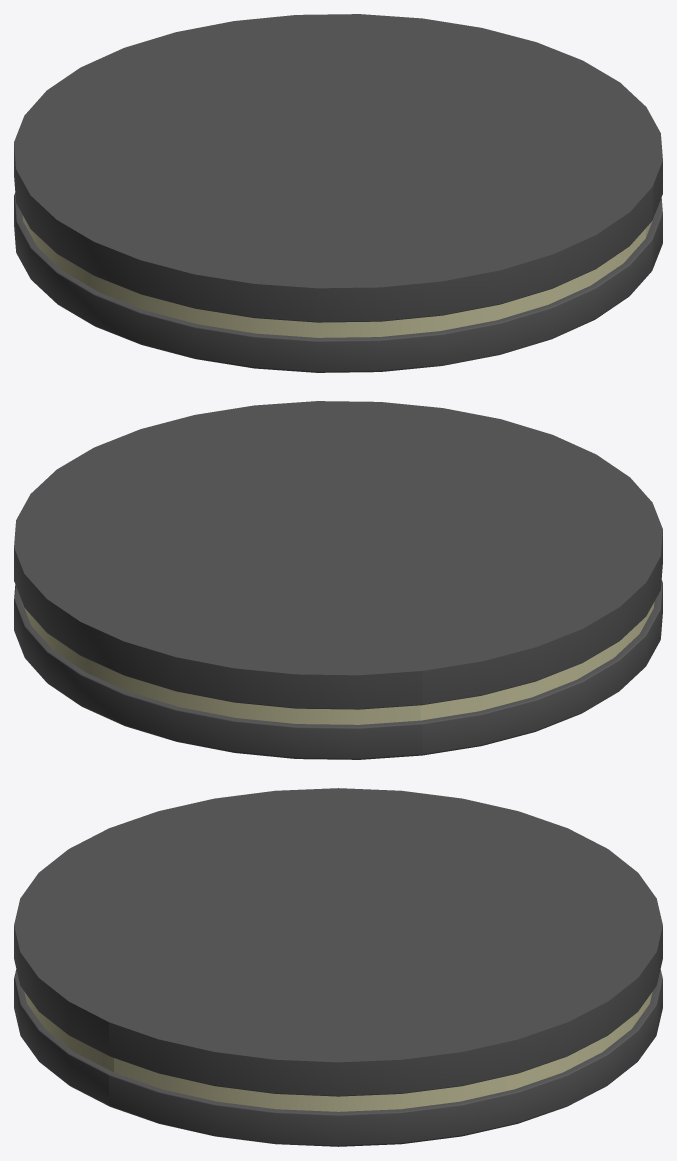
Rendered from Luce_soffitto.fbx.
3 views of the same model, one above another, from view 1: azimuth 30°, elevation 25°; view 2: azimuth 150°, elevation 25°; view 3: azimuth 270°, elevation 25° (orthographic).
Parts seen in each view (by area): view 1: lamp_01; view 2: lamp_01; view 3: lamp_01.
Boxes of the visible parts, x1,y1,x2,y2 form: lamp_01: (14,14,662,372); lamp_01: (14,401,662,759); lamp_01: (14,788,662,1146).
Size of the model in its own units: 111 by 16.07 by 111.
